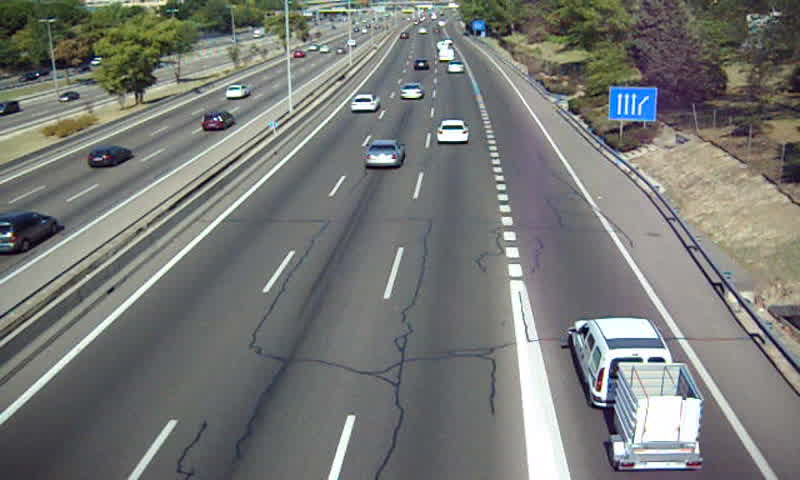car: (363, 139, 406, 170), (437, 120, 468, 143), (349, 94, 379, 114), (399, 83, 425, 101), (447, 61, 466, 75), (412, 59, 429, 73)
van: (570, 317, 675, 407)
